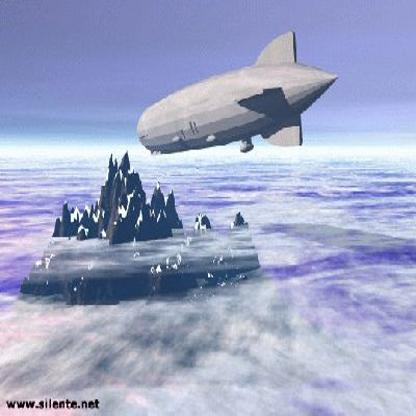Airship: (137, 29, 339, 157)
